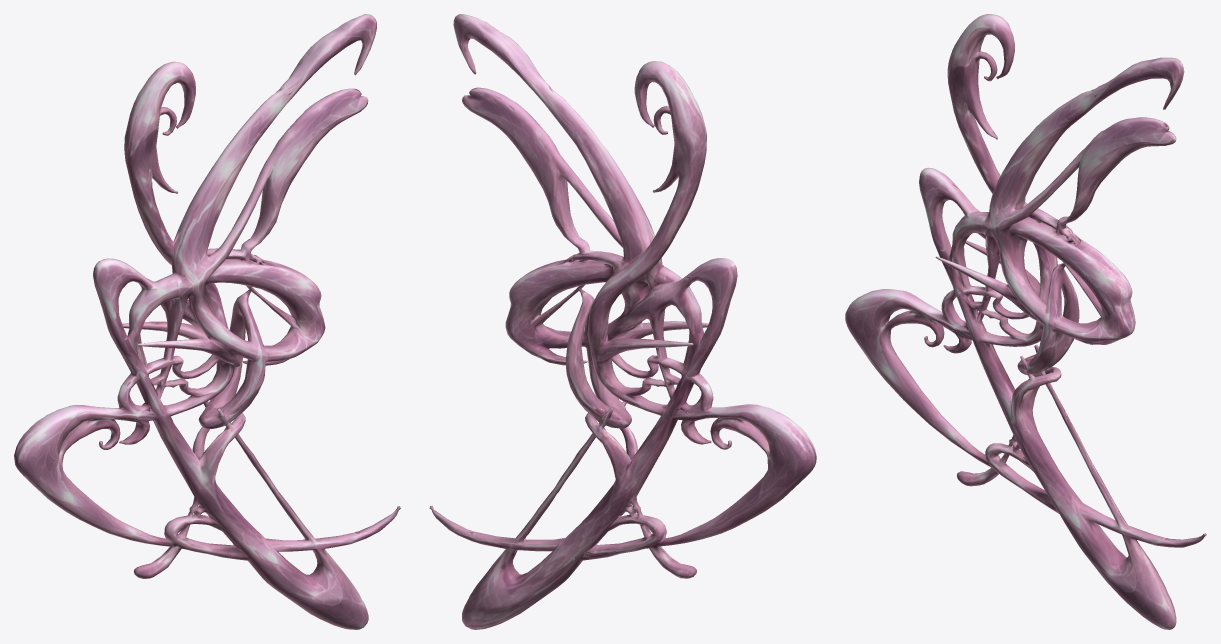
File: embrace-intro.glb
3 views of the same model, side by side, from view 1: azimuth 30°, elevation 25°; view 2: azimuth 150°, elevation 25°; view 3: azimuth 330°, elevation 25° (orthographic). The views are drawn at different scales.
Visible parts, largest first — view 1: tripo_node_296e4315-7852-4222-84ea-6aa8c724f146; view 2: tripo_node_296e4315-7852-4222-84ea-6aa8c724f146; view 3: tripo_node_296e4315-7852-4222-84ea-6aa8c724f146.
Part boxes in pixels (box(x1,y1,x2,y2)): tripo_node_296e4315-7852-4222-84ea-6aa8c724f146: box(14, 14, 400, 629); tripo_node_296e4315-7852-4222-84ea-6aa8c724f146: box(429, 14, 816, 629); tripo_node_296e4315-7852-4222-84ea-6aa8c724f146: box(845, 14, 1206, 629).
Size of the model in its own units: 0.6442 by 0.9787 by 0.0914.
1 material, 1 textured.
